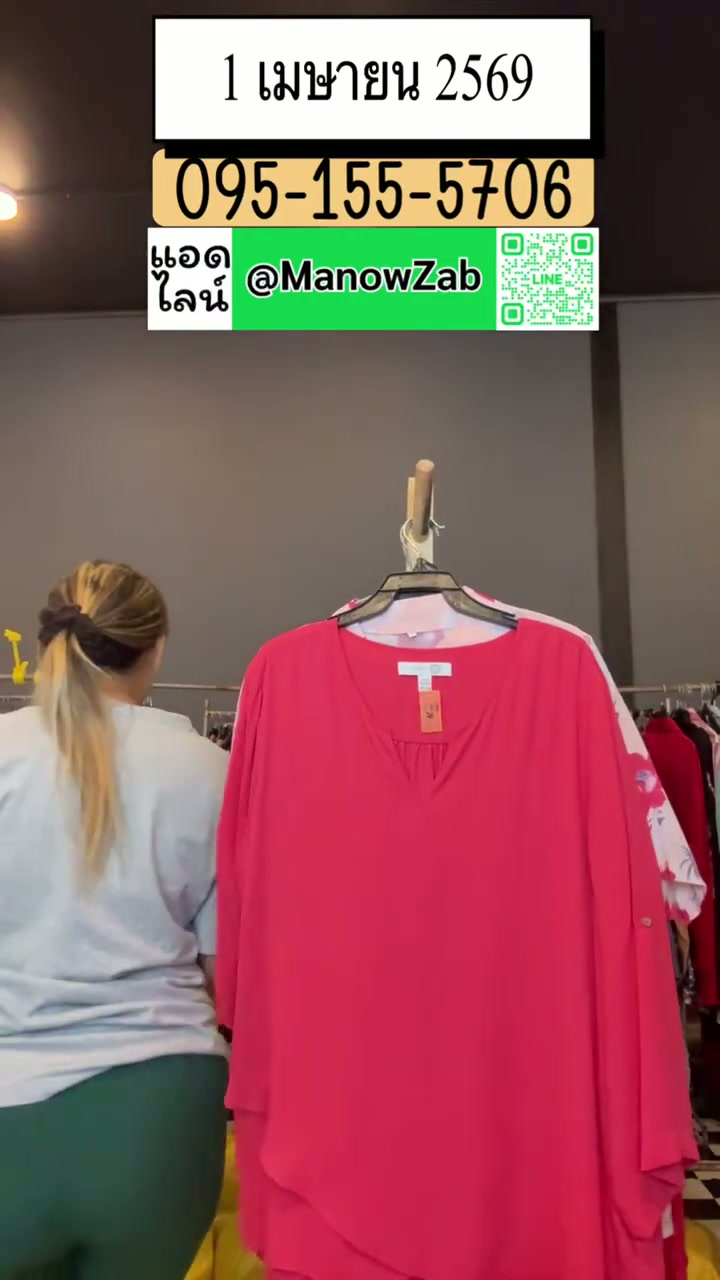display_shirt: (219, 582, 702, 1279)
